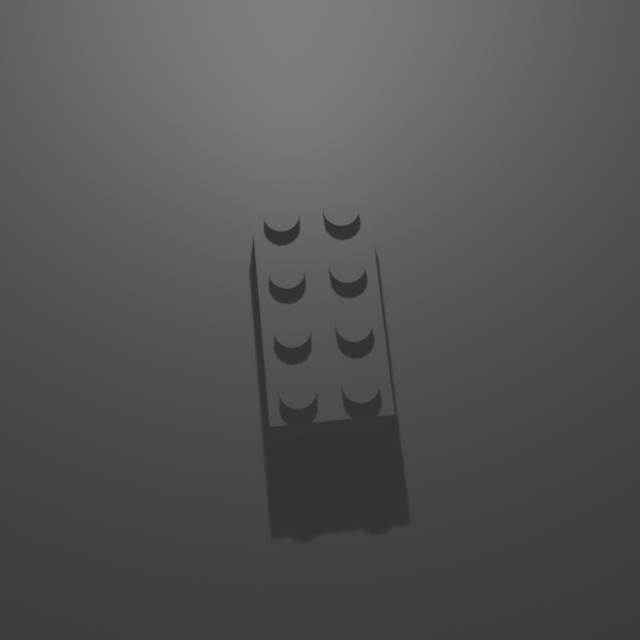lego_2x4: (249, 179, 396, 437)
